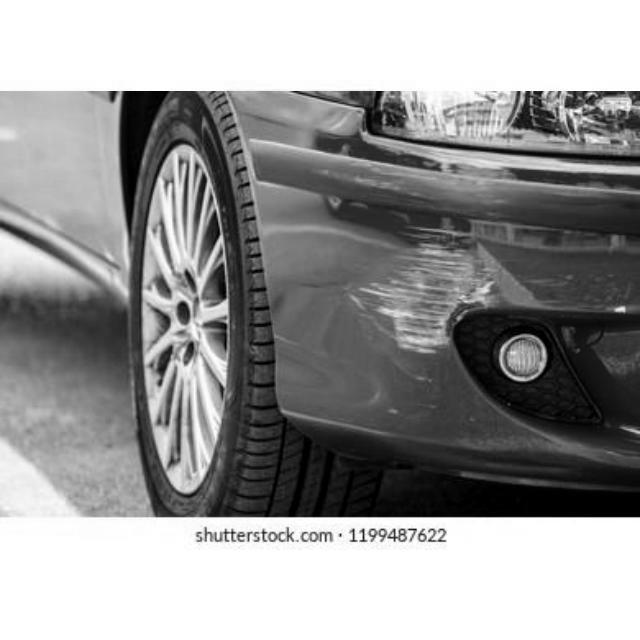front-bumper-dent: (230, 141, 638, 438)
